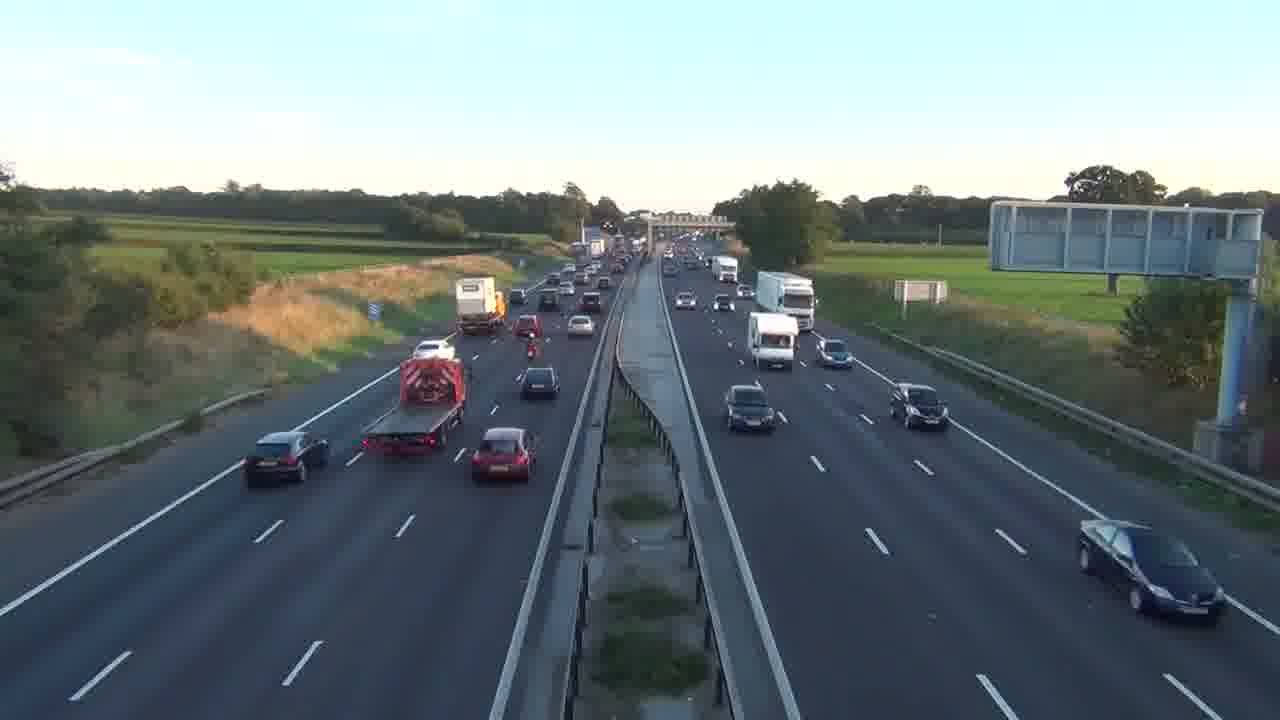bus: (399, 356, 465, 406)
car: (471, 426, 535, 484), (515, 366, 560, 400), (816, 339, 854, 370)
truck: (1076, 518, 1225, 624), (752, 271, 817, 330)
